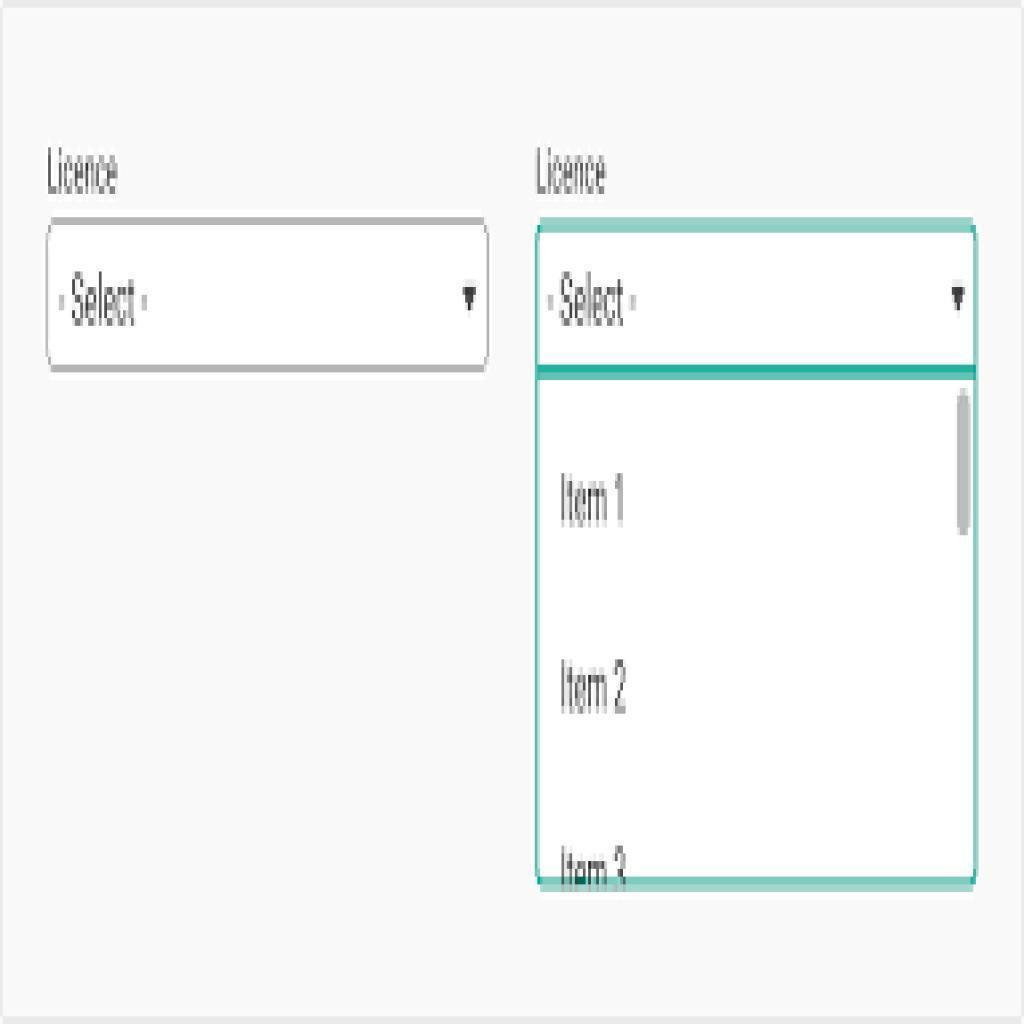dropdown: (49, 220, 491, 373), (539, 225, 974, 368)
label: (41, 142, 121, 200), (534, 142, 608, 201)
